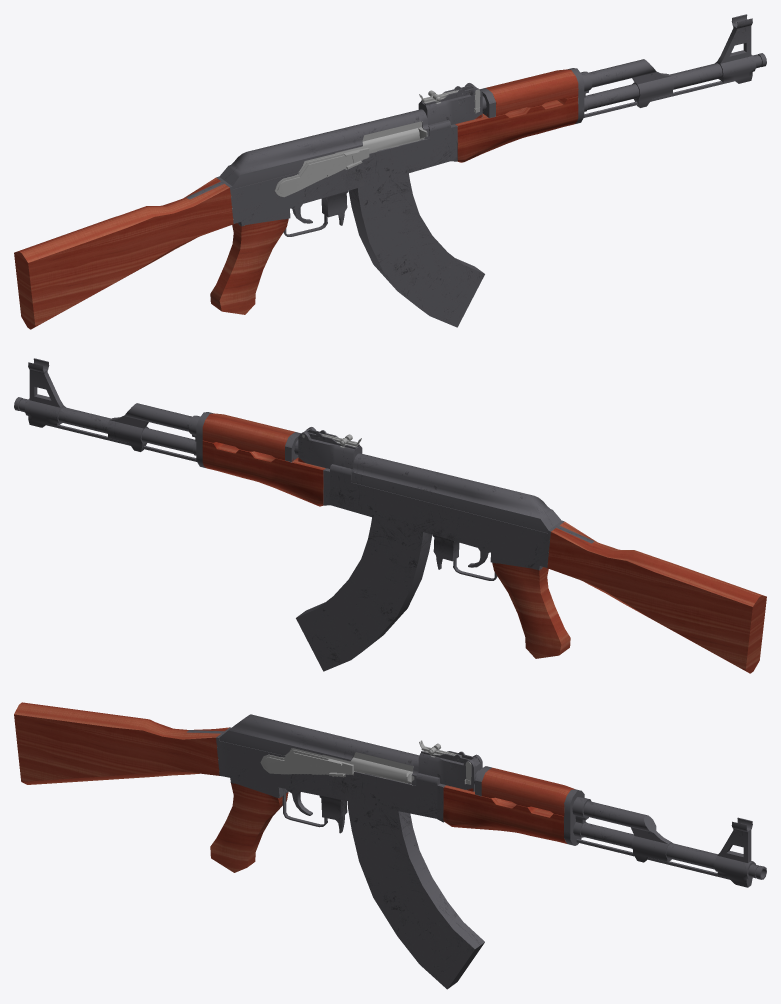
The picture shows the model from 3 angles, top to bottom: view 1: azimuth 30°, elevation 25°; view 2: azimuth 150°, elevation 25°; view 3: azimuth 330°, elevation 25°; orthographic projection.
Parts seen in each view (by area): view 1: AK47LP; view 2: AK47LP; view 3: AK47LP.
Part boxes in pixels (x1,y1,x2,y2): AK47LP: [14, 14, 766, 329]; AK47LP: [14, 358, 766, 673]; AK47LP: [14, 702, 766, 989].
Size of the model in its own units: 2 by 0.6089 by 0.0806.
Materials: 1 (1 with a texture image).
